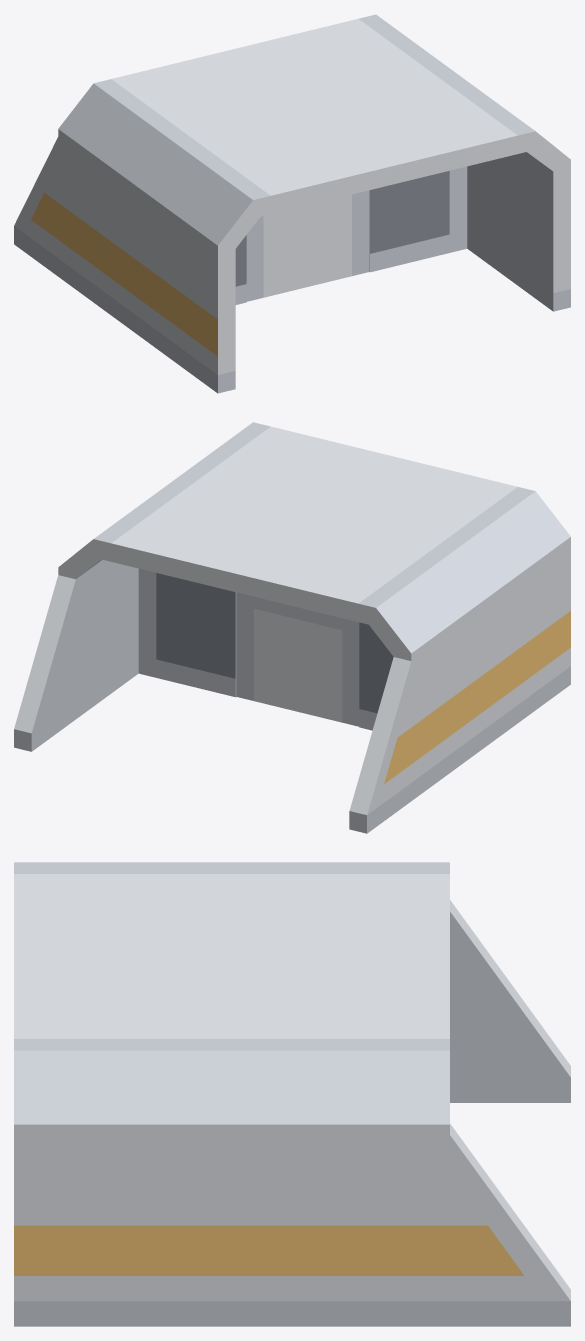
File: hangar_smallB.glb
3 views of the same model, one above another, from view 1: azimuth 30°, elevation 25°; view 2: azimuth 150°, elevation 25°; view 3: azimuth 270°, elevation 25° (orthographic). The views are drawn at different scales.
Parts seen in each view (by area): view 1: hangar_smallB, hangar_smallB.003, hangar_smallB.002; view 2: hangar_smallB, hangar_smallB.002, hangar_smallB.003; view 3: hangar_smallB.
Boxes of the visible parts, x1,y1,x2,y2 form: hangar_smallB: (14,14,570,393); hangar_smallB.003: (246,190,369,301); hangar_smallB.002: (235,166,467,304); hangar_smallB: (14,422,570,833); hangar_smallB.002: (236,592,359,726); hangar_smallB.003: (138,568,393,730); hangar_smallB: (14,862,570,1326).
Size of the model in its own units: 6 by 3 by 6.
